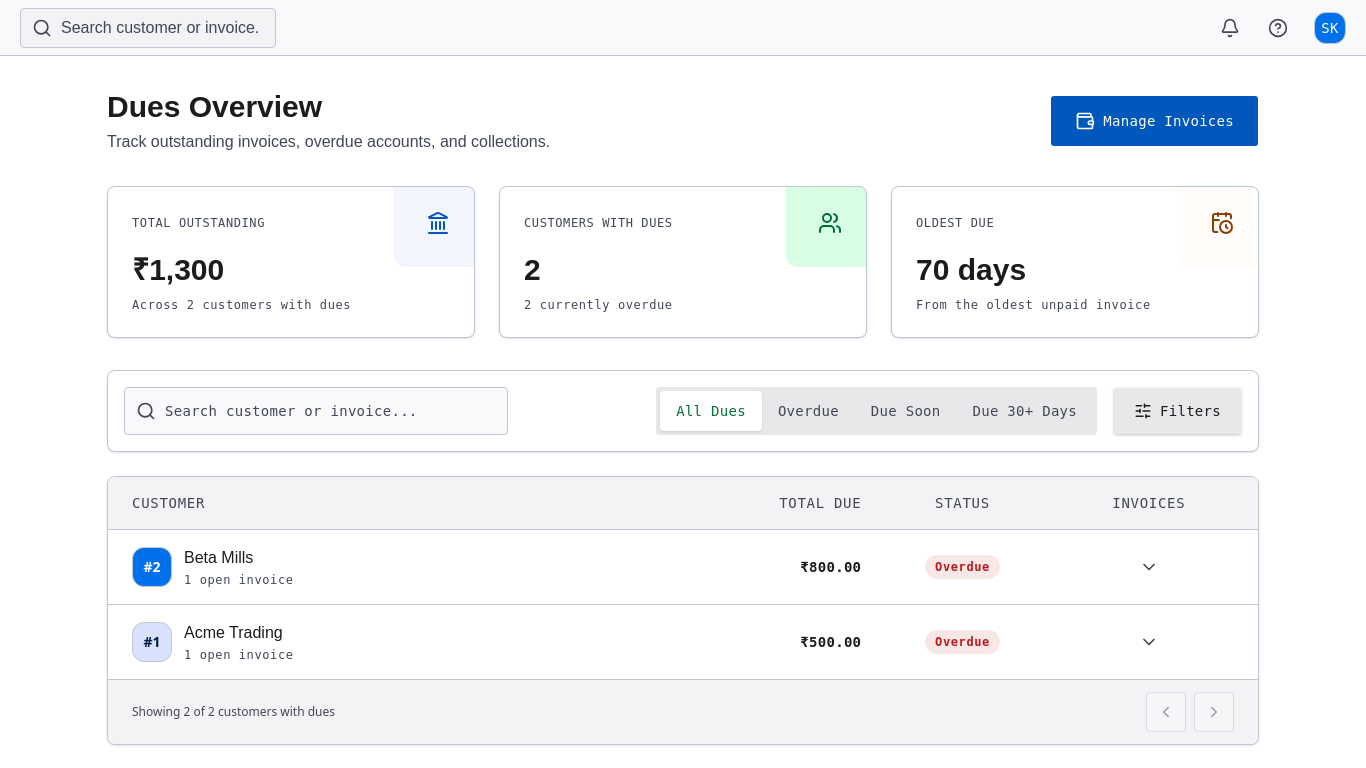
Test case: Dues filter sheet — dimensions › counts a selected payment status
Click the button "Filters" at (1178, 411), box [1113, 387, 1242, 435]
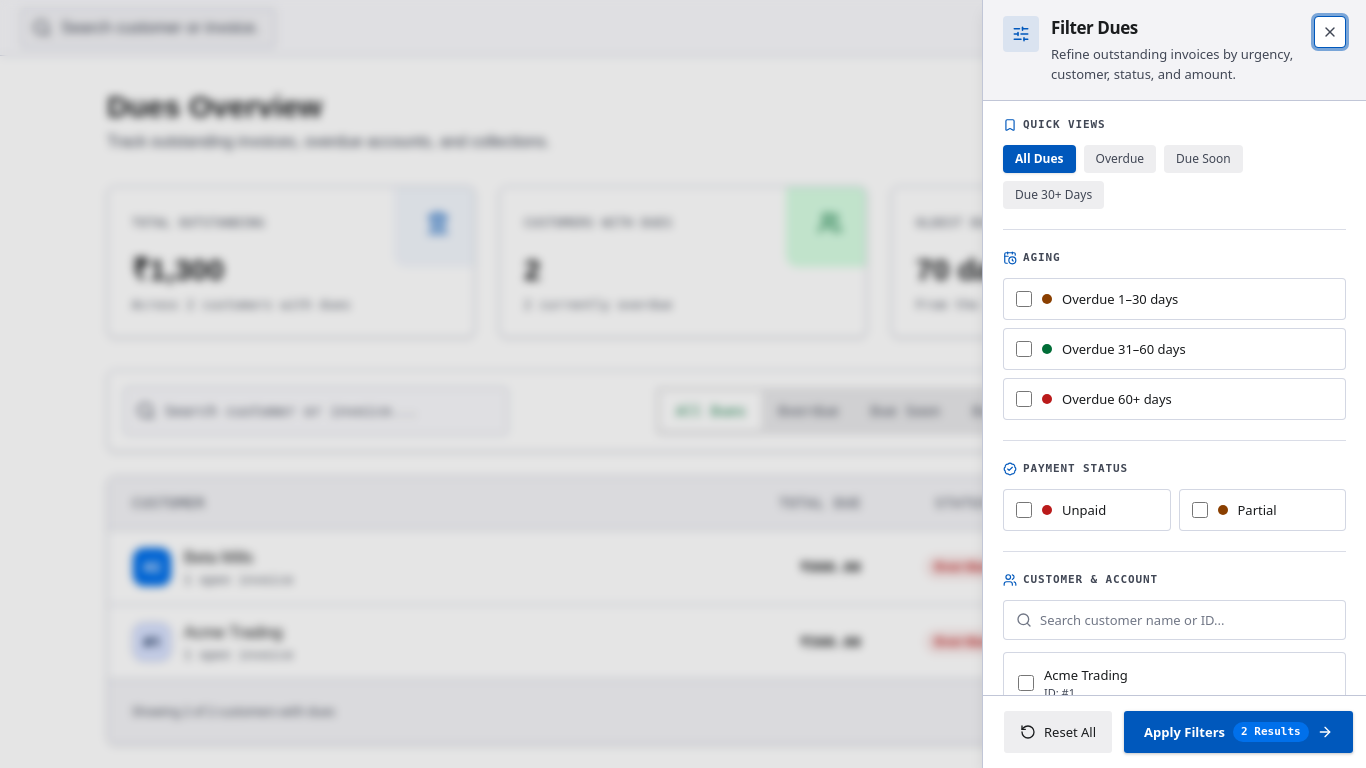
Expected: the heading "Filter Dues" is shown, [1051, 16, 1138, 40]
Click the checkbox labelled "Partial" at (1200, 510), box [1192, 502, 1208, 518]
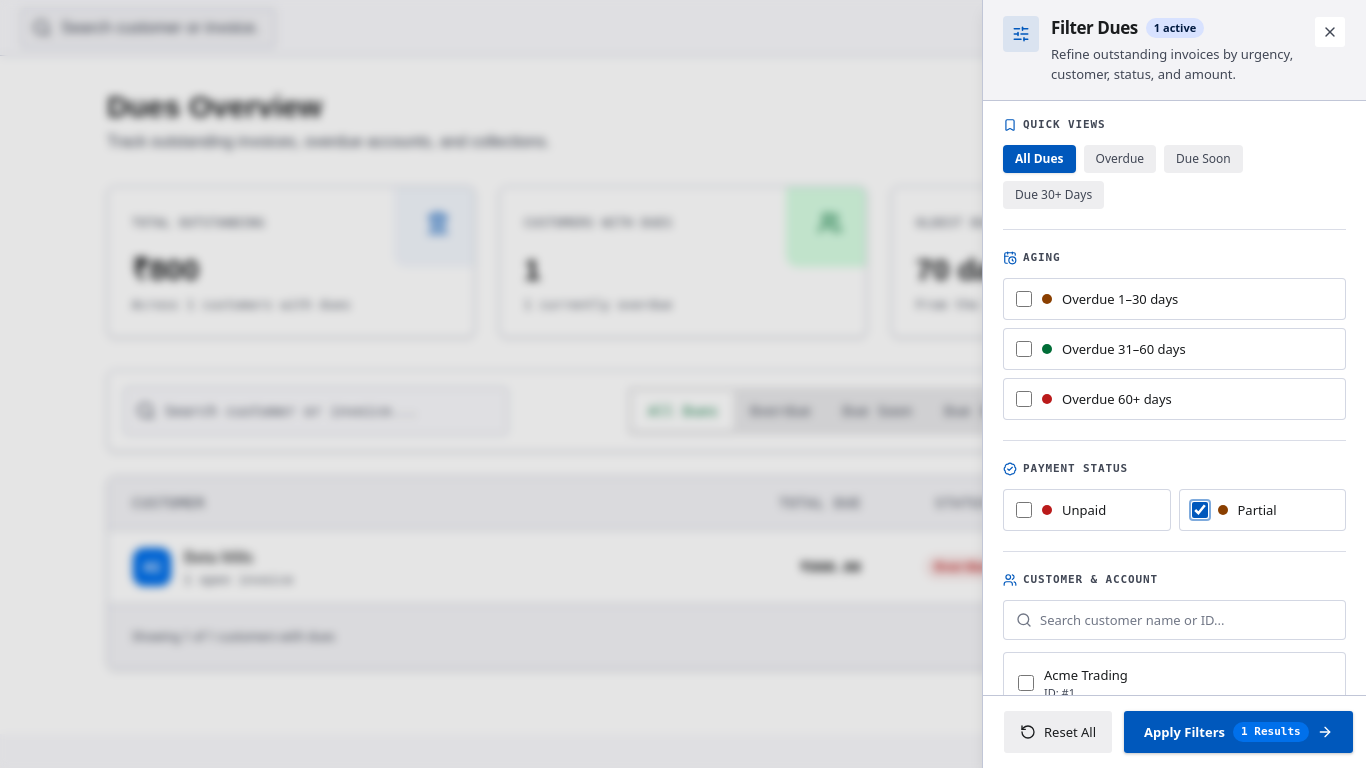
Expected: the text "1 active" is shown, [1146, 18, 1204, 38]
